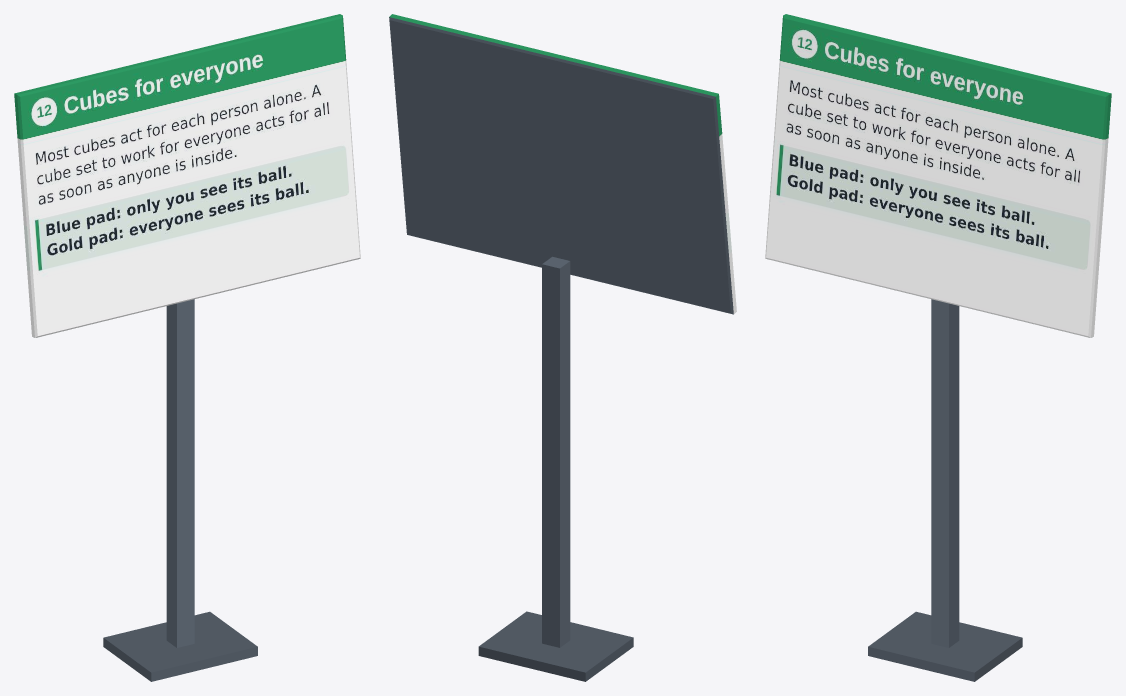
The model's file is 12-cubes-for-everyone.glb.
The picture shows the model from 3 angles, left to right: view 1: azimuth 30°, elevation 25°; view 2: azimuth 150°, elevation 25°; view 3: azimuth 330°, elevation 25°; orthographic projection.
Visible parts, largest first — view 1: board; view 2: board; view 3: board.
Boxes of the visible parts, left/top/right/bottom form: board: left=14, top=14, right=360, bottom=681; board: left=389, top=14, right=736, bottom=681; board: left=765, top=14, right=1111, bottom=681.
Size of the model in its own units: 1.1 by 1.92 by 0.28.
1 material, 1 textured.
